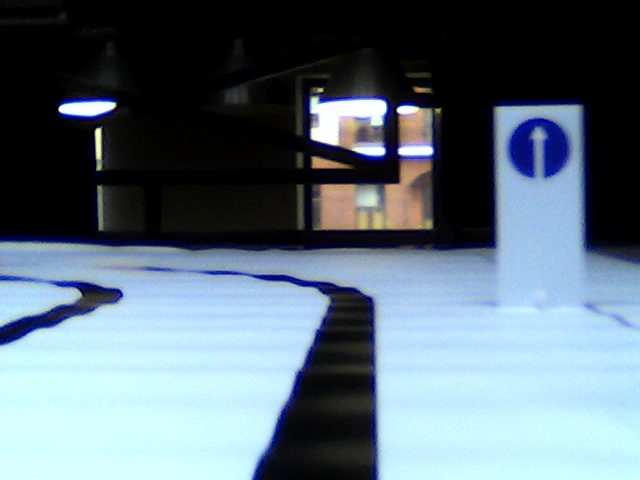forw: (506, 115, 571, 180)
